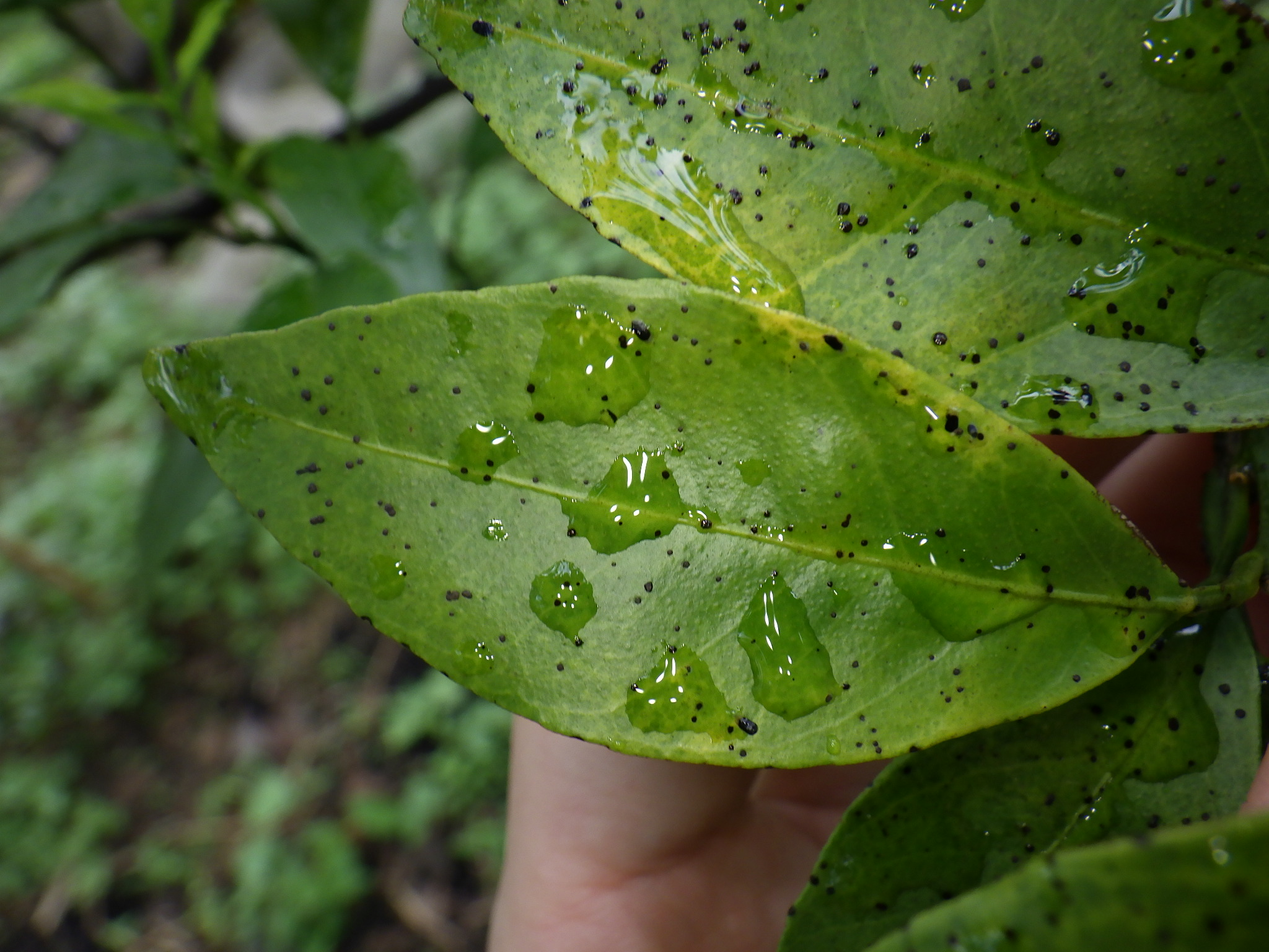Oily_Spot: (145, 278, 1197, 767)
